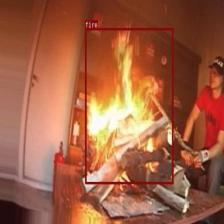fire: (85, 28, 173, 184)
